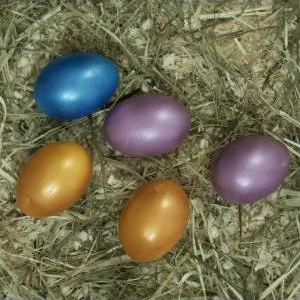egg: (118, 179, 190, 263), (16, 140, 91, 218), (35, 54, 120, 121), (103, 95, 191, 158), (213, 134, 291, 203)
